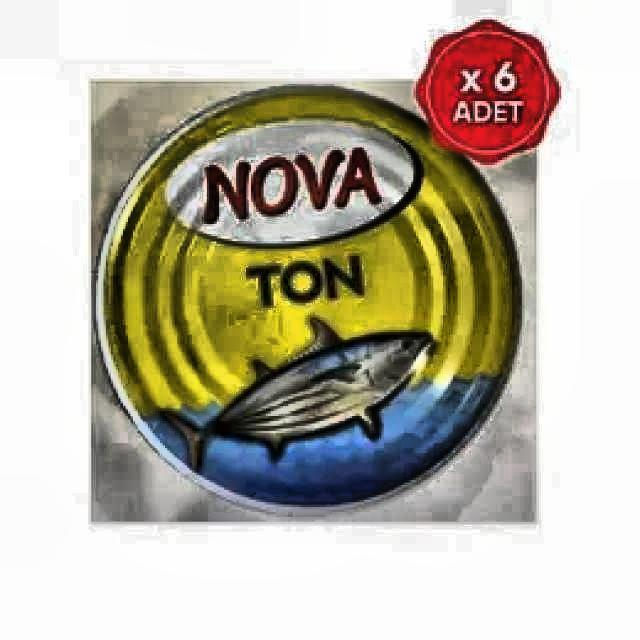metal: (94, 86, 521, 519)
